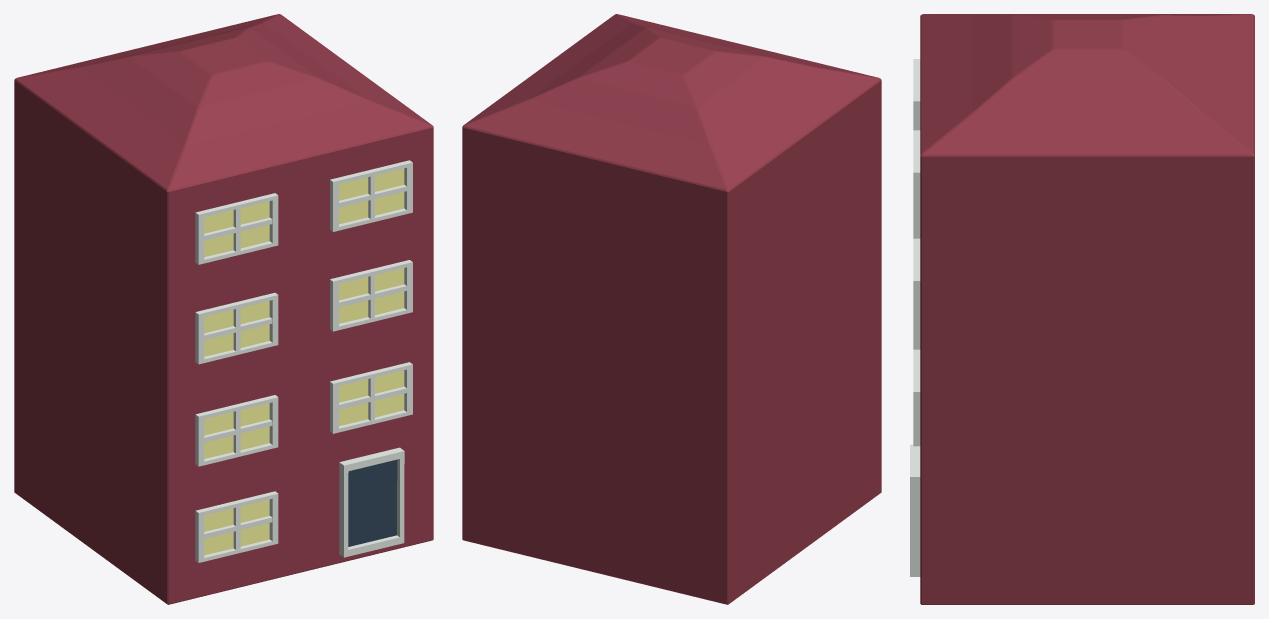
File: building.fbx
The picture shows the model from 3 angles, left to right: view 1: azimuth 30°, elevation 25°; view 2: azimuth 150°, elevation 25°; view 3: azimuth 270°, elevation 25°; orthographic projection. The views are drawn at different scales.
Parts seen in each view (by area): view 1: Cube, Cube.005, Cube.002, Cube.001, Cube.003, Cube.007, Cube.008, Cube.006, Cube.004; view 2: Cube; view 3: Cube, Cube.005, Cube.008, Cube.006, Cube.004, Cube.007.
Part boxes in pixels (x1,y1,x2,y2): Cube: (14,14,433,604); Cube.005: (339,447,404,557); Cube.002: (195,491,278,562); Cube.001: (195,395,278,466); Cube.003: (195,292,278,364); Cube.007: (195,193,278,264); Cube.008: (330,362,412,433); Cube.006: (330,260,412,331); Cube.004: (330,160,412,231); Cube: (462,14,881,604); Cube: (920,14,1254,604); Cube.005: (910,444,920,576); Cube.008: (913,349,920,446); Cube.006: (913,238,920,335); Cube.004: (913,130,920,226); Cube.007: (913,59,920,130).
Bounding box in the file's own units: 828 × 1365 × 853.
